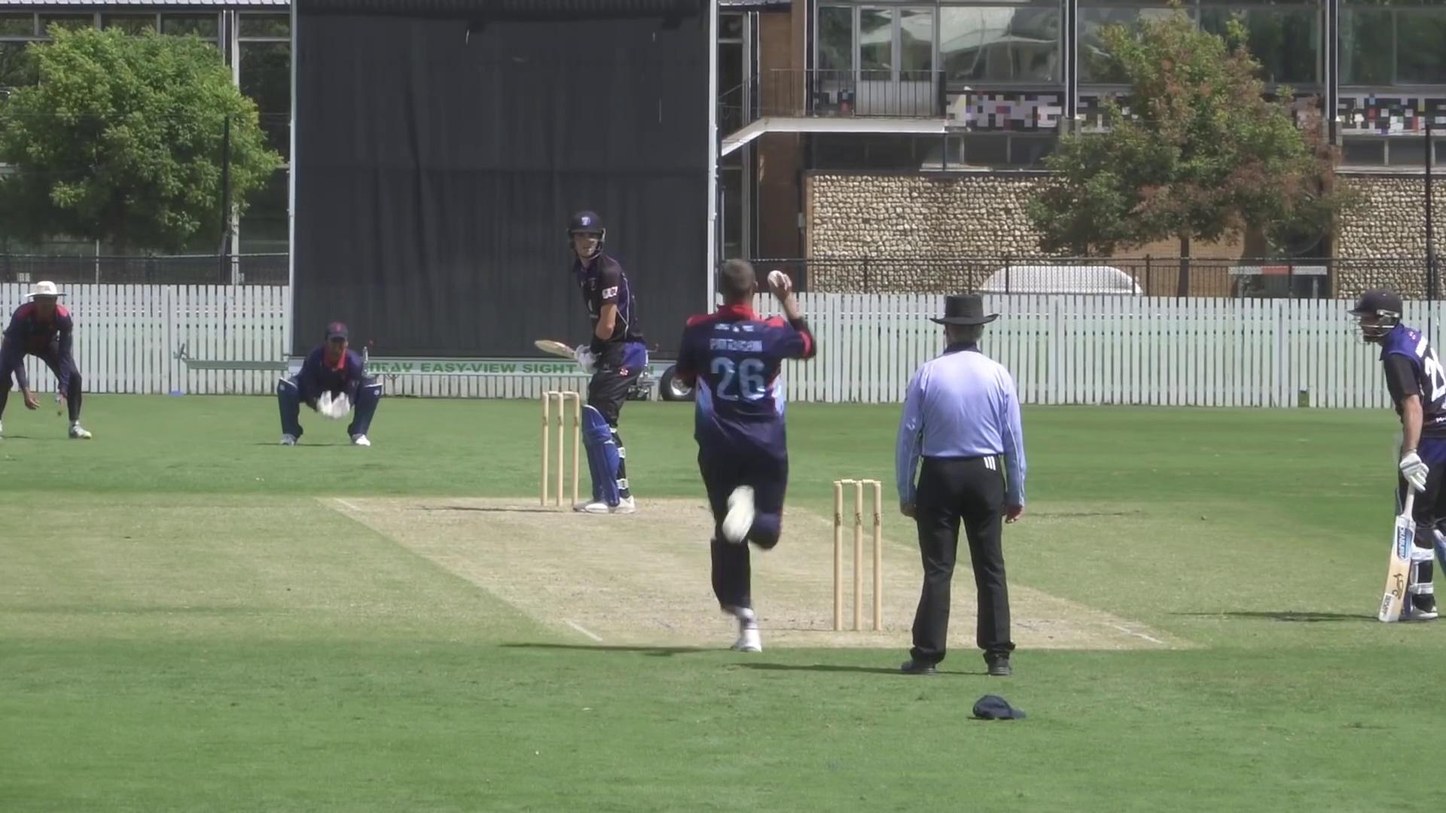ball: (764, 267, 791, 292)
